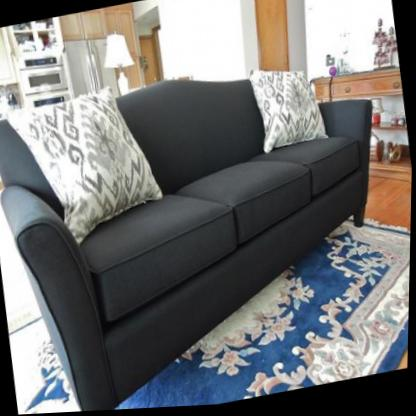Sofa: (0, 38, 415, 416)
